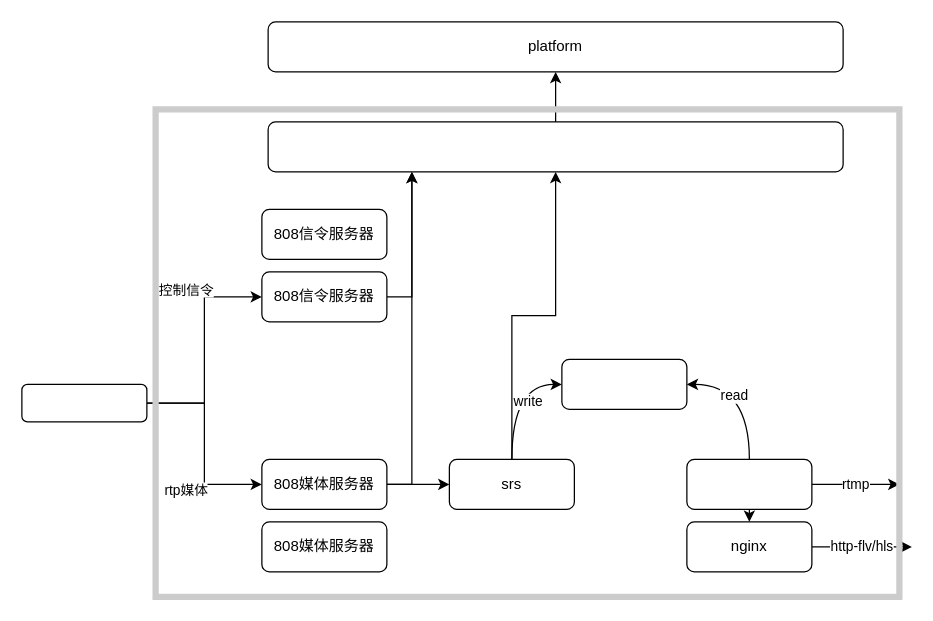
Some shapes in this 933 by 621 pixel diagram are drawn without their labels. The shapes that lost their labels are listed below. From the top down, each one's box as (x1, y1, x2, y2) in pixels, then its label:
(267, 121, 843, 172): edge-adaptor
(21, 383, 147, 422): 车载设备
(561, 358, 687, 409): sr
(686, 458, 812, 509): outer
